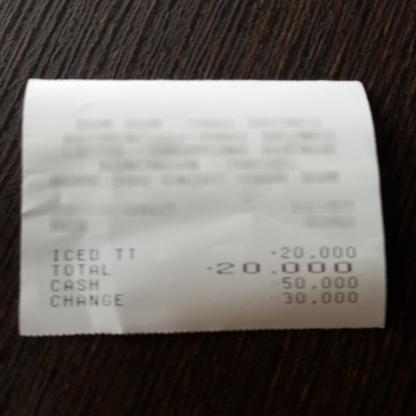receipts: (28, 76, 378, 331)
